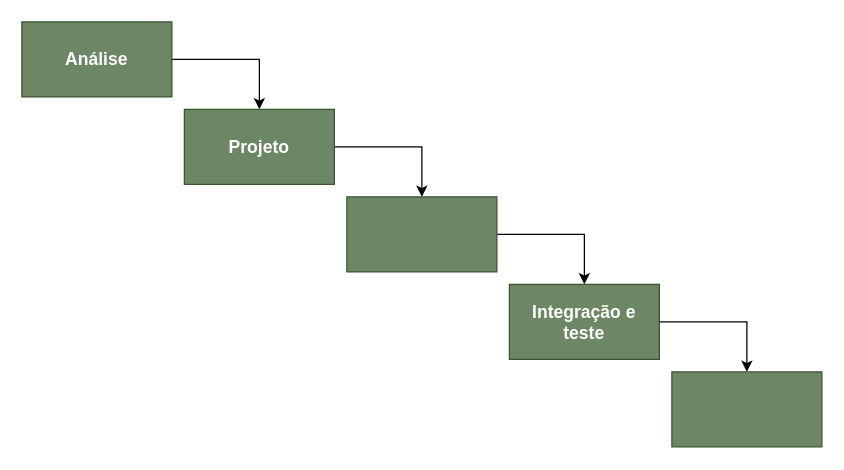
Some shapes in this 844 by 470 pixel diagram are drawn without their labels. The shapes that lost their labels are listed below. From the top down, each one's box as (x1, y1, x2, y2) in pixels, then its label:
(346, 196, 497, 272): Implementação e teste
(671, 371, 822, 447): Operação e manutenção
